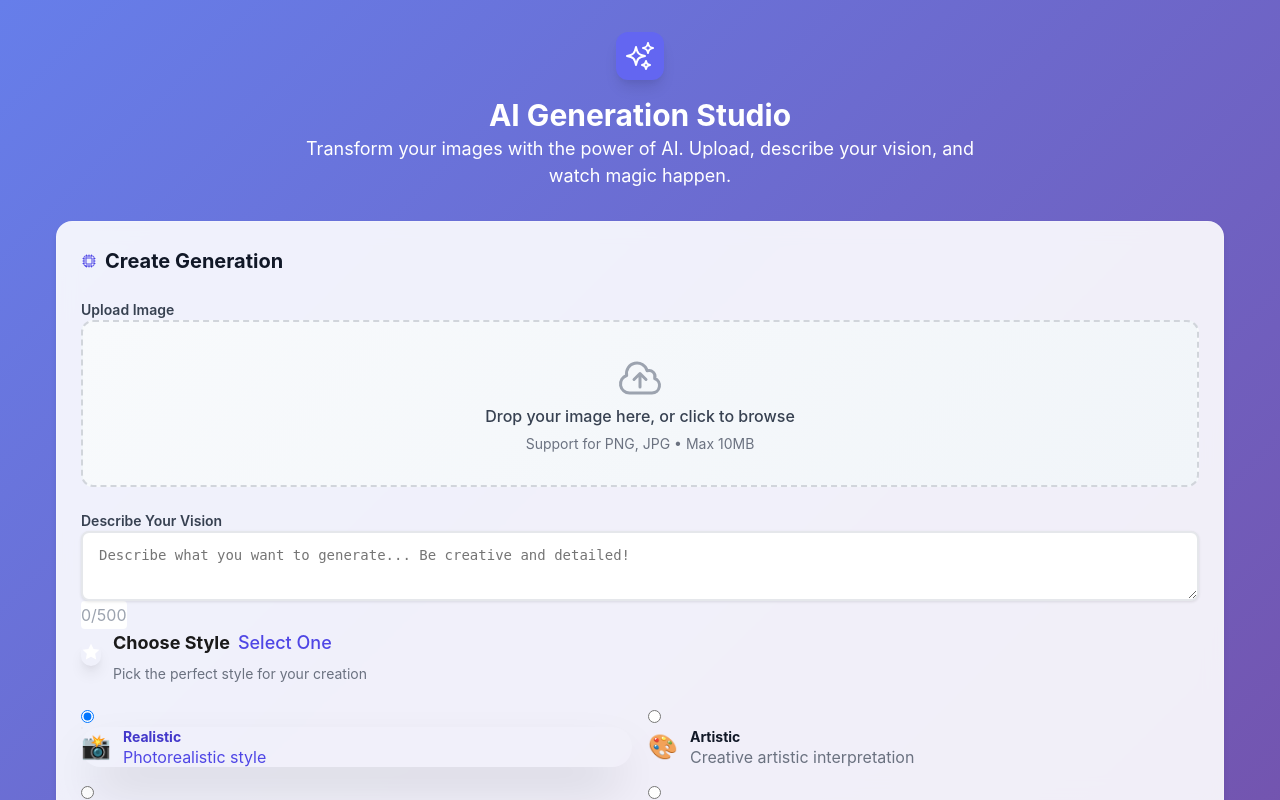
Test case: Studio › Prompt Input › should show character count
Expected: the text "0/500" is shown, [81,601,126,629]
Type "Test prompt" into the text box with placeholder "Describe what you want to generate" at (640, 566), box [81,531,1199,601]
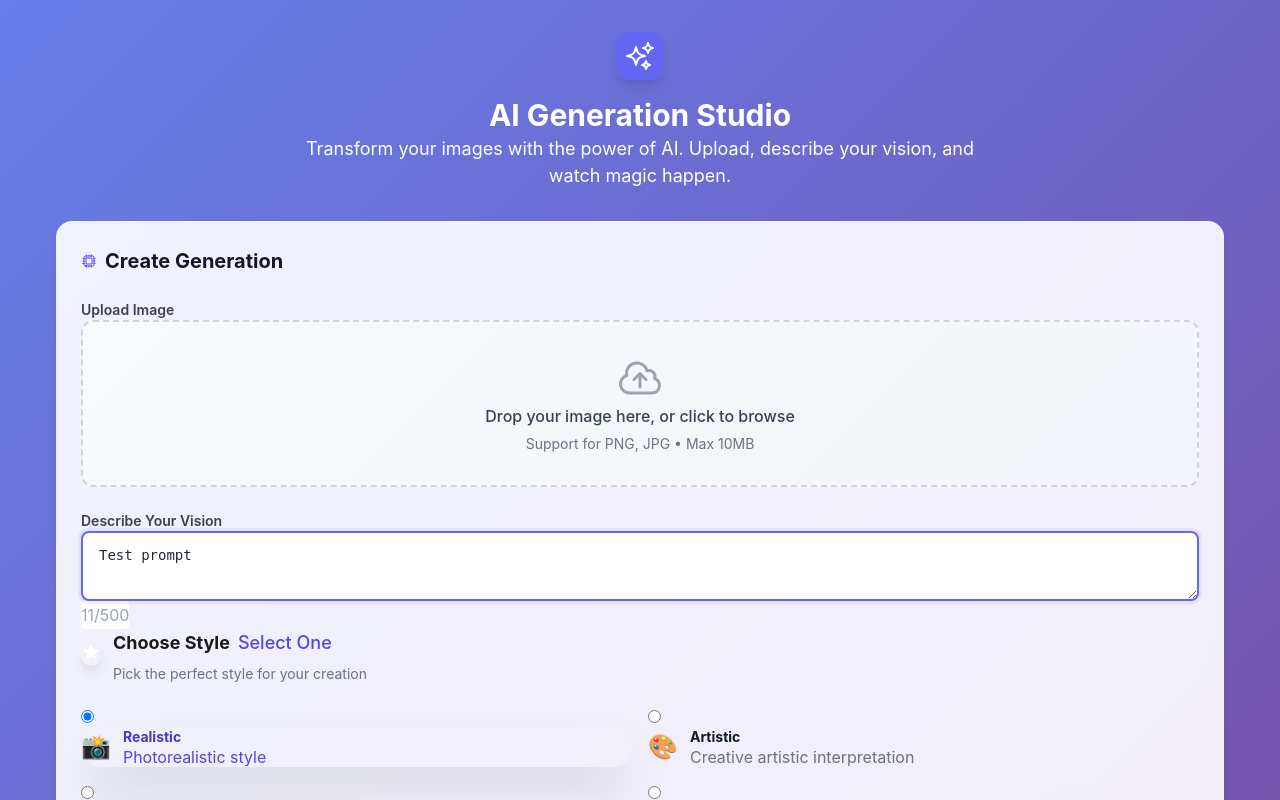
Expected: the text "11/500" is shown, [81,601,130,629]
